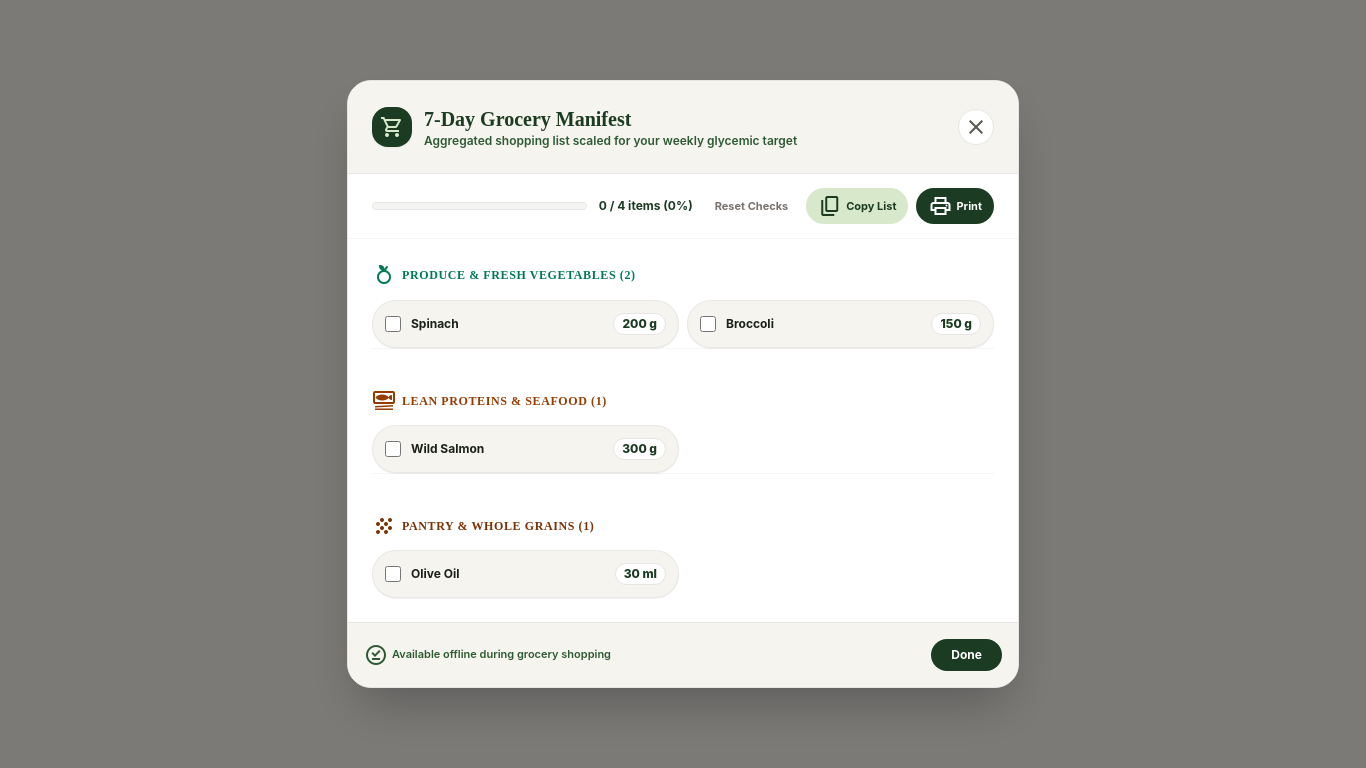
it: GroceryListModal Component › allows checking and unchecking items, persisting in state
Expected: the text "0 / 4 items (0%)" is shown, [599,198,693,214]
// Check first item
Step 1. Click the checkbox labelled "Spinach 200 g" → (393, 324), box [385,316,401,332]
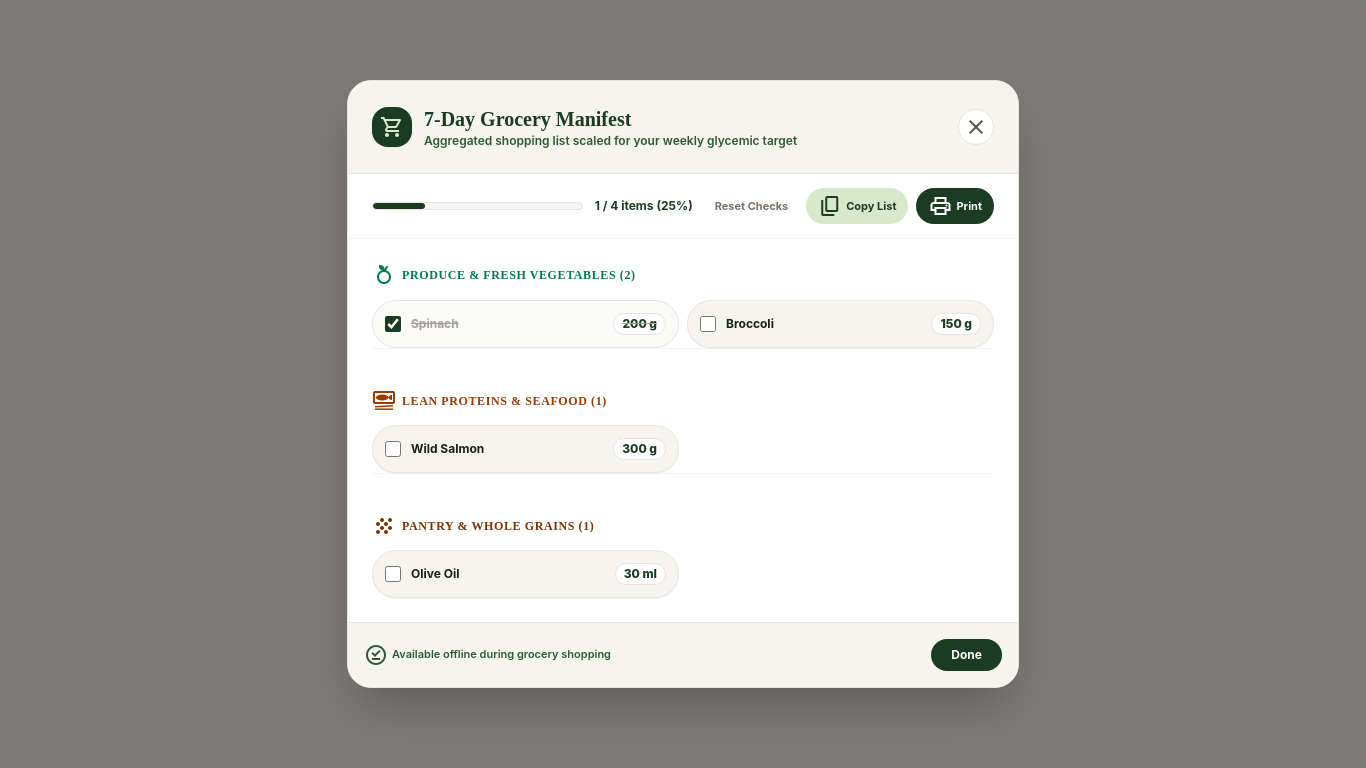
Expected: the text "1 / 4 items (25%)" is shown, [595,198,693,214]
// Reset checks button
Step 2. Click the button "Reset Checks" → (751, 206), box [705,192,798,221]
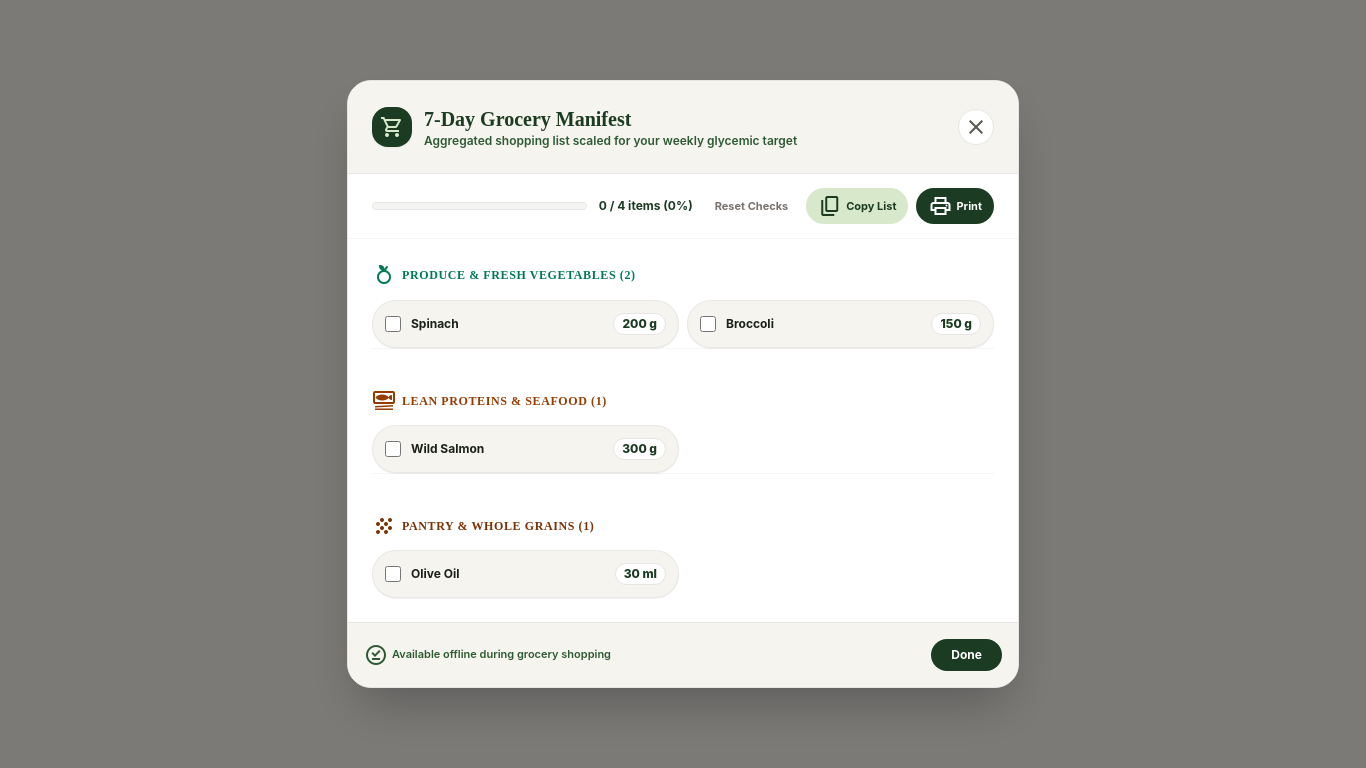
Expected: the text "0 / 4 items (0%)" is shown, [599,198,693,214]
